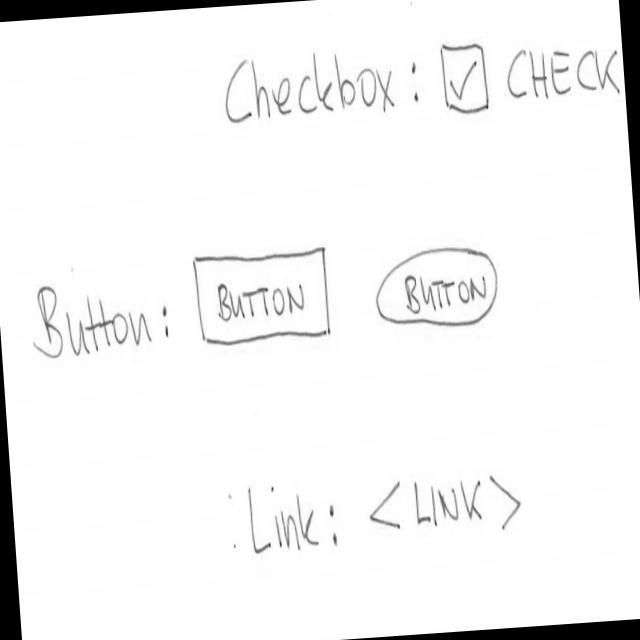button: (189, 240, 335, 354), (370, 235, 502, 338)
checkbox: (436, 27, 624, 122)
link: (363, 465, 524, 546)
